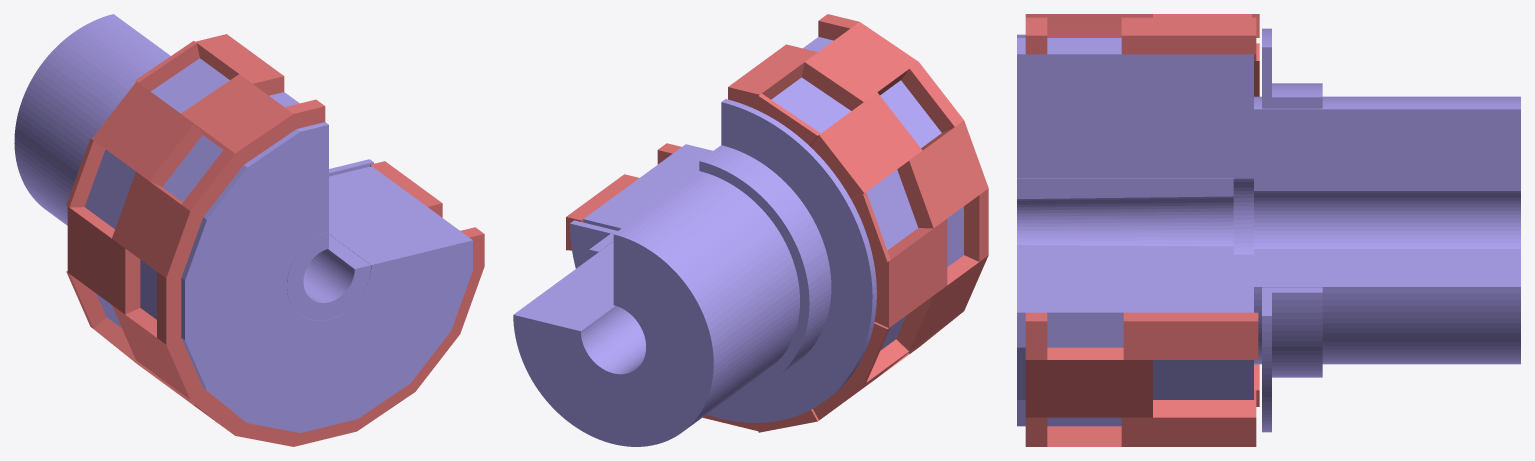
The model's file is Small-Wheel-Hub-SideC-cut3.glb.
3 views of the same model, side by side, from view 1: azimuth 30°, elevation 25°; view 2: azimuth 150°, elevation 25°; view 3: azimuth 270°, elevation 25° (orthographic). The views are drawn at different scales.
Parts seen in each view (by area): view 1: null; view 2: null; view 3: null.
Part boxes in pixels (left/top/right/bottom): null: left=14, top=14, right=484, bottom=446; null: left=513, top=14, right=988, bottom=446; null: left=1017, top=14, right=1520, bottom=446.
Bounding box in the file's own units: 1.7 × 1.7 × 2.
